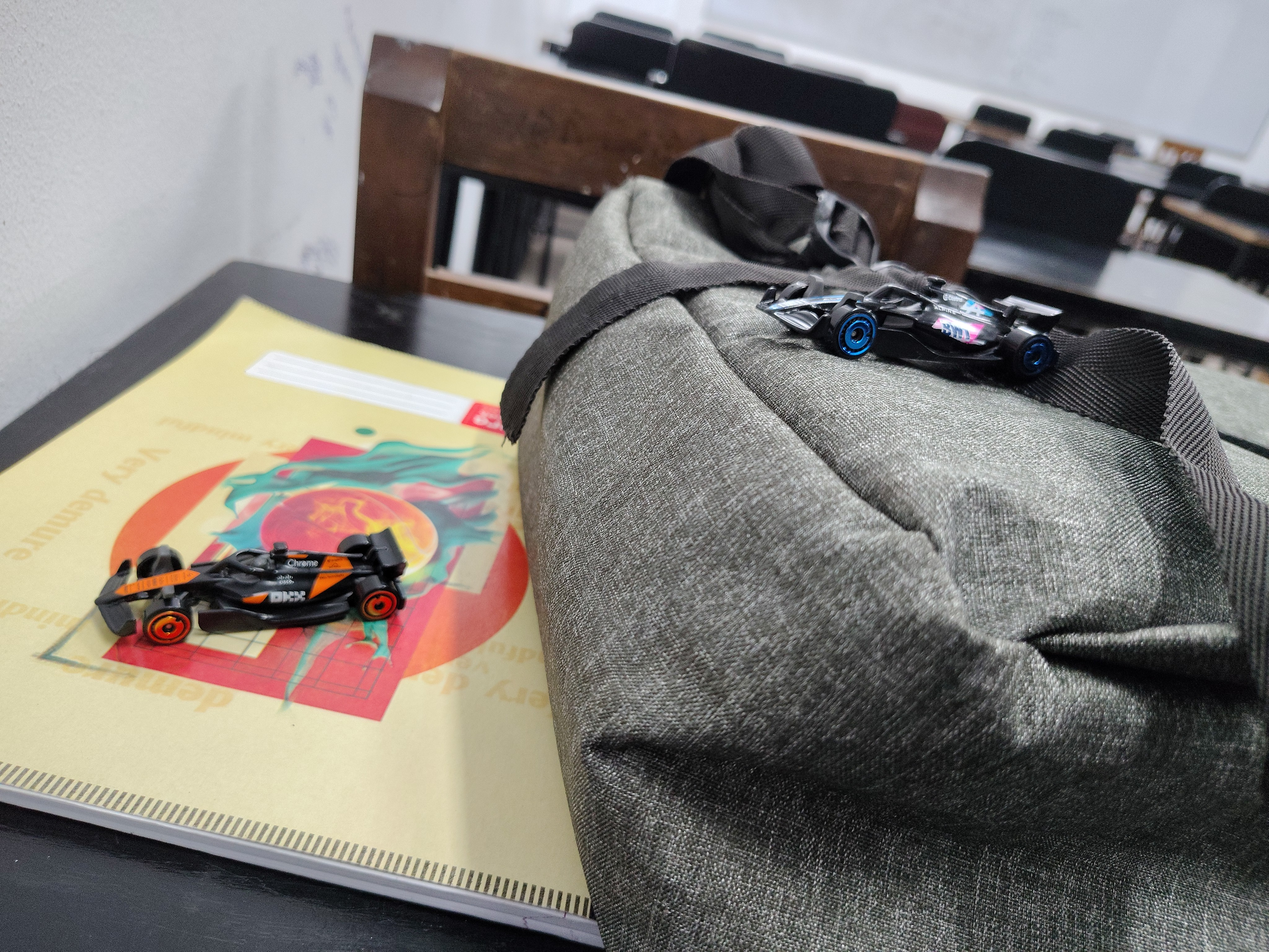Alpine A524: (737, 246, 1091, 435)
McLaren MCL40: (70, 519, 437, 643)
